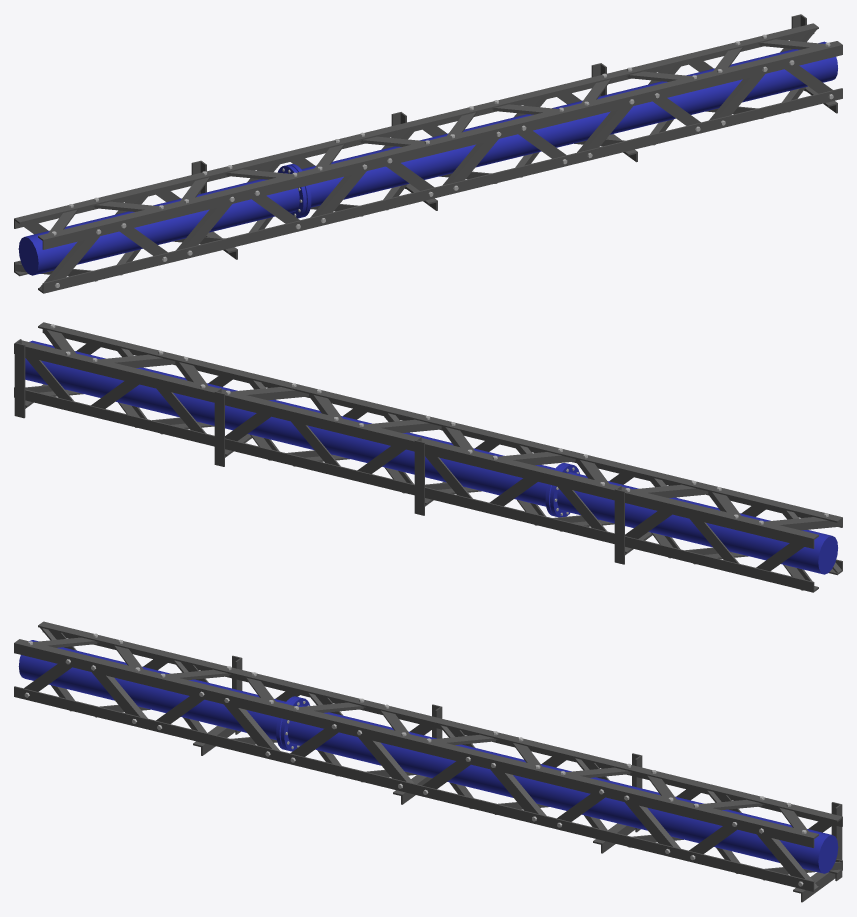
File: wall 3.fbx
The picture shows the model from 3 angles, top to bottom: view 1: azimuth 30°, elevation 25°; view 2: azimuth 150°, elevation 25°; view 3: azimuth 330°, elevation 25°; orthographic projection.
Visible parts, largest first — view 1: Desirefx.me_CyberAcc_Pipe_PaintBlack, Desirefx.me_CyberAcc_Pipe_PaintBlue, Desirefx.me_CyberAcc_Pipe_SteelRaw; view 2: Desirefx.me_CyberAcc_Pipe_PaintBlack, Desirefx.me_CyberAcc_Pipe_PaintBlue, Desirefx.me_CyberAcc_Pipe_SteelRaw; view 3: Desirefx.me_CyberAcc_Pipe_PaintBlack, Desirefx.me_CyberAcc_Pipe_PaintBlue, Desirefx.me_CyberAcc_Pipe_SteelRaw.
Boxes of the visible parts, x1,y1,x2,y2 form: Desirefx.me_CyberAcc_Pipe_PaintBlack: (14, 14, 842, 293); Desirefx.me_CyberAcc_Pipe_PaintBlue: (18, 41, 837, 275); Desirefx.me_CyberAcc_Pipe_SteelRaw: (51, 34, 833, 287); Desirefx.me_CyberAcc_Pipe_PaintBlack: (14, 322, 842, 592); Desirefx.me_CyberAcc_Pipe_PaintBlue: (25, 340, 837, 574); Desirefx.me_CyberAcc_Pipe_SteelRaw: (50, 324, 828, 590); Desirefx.me_CyberAcc_Pipe_PaintBlack: (14, 621, 842, 902); Desirefx.me_CyberAcc_Pipe_PaintBlue: (18, 640, 838, 873); Desirefx.me_CyberAcc_Pipe_SteelRaw: (24, 633, 806, 886).
Bounding box in the file's own units: 20.32 × 1.77 × 1.68.
